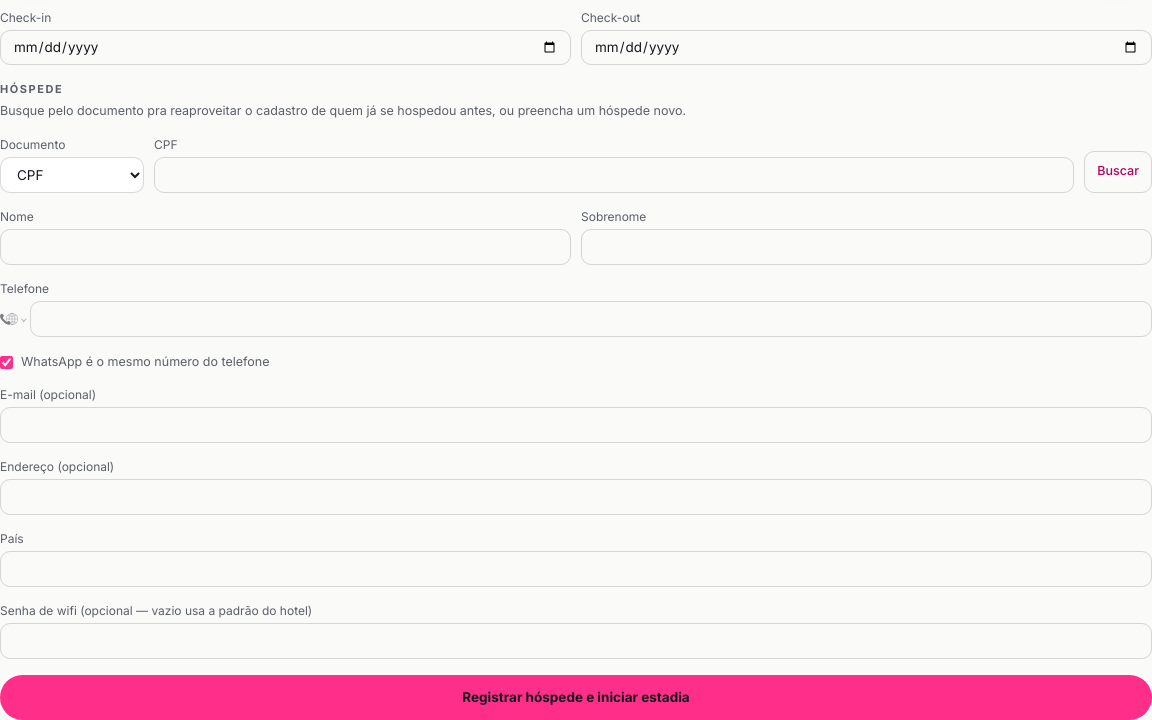
Test case: OccupancyForm › validates required fields before submitting
(page scrolled)
What coordinates should you click on to do the following:
click the button "Registrar hóspede e iniciar estadia"
I would click on:
 (576, 698)
Its box is [0,675,1151,719].
(page scrolled)
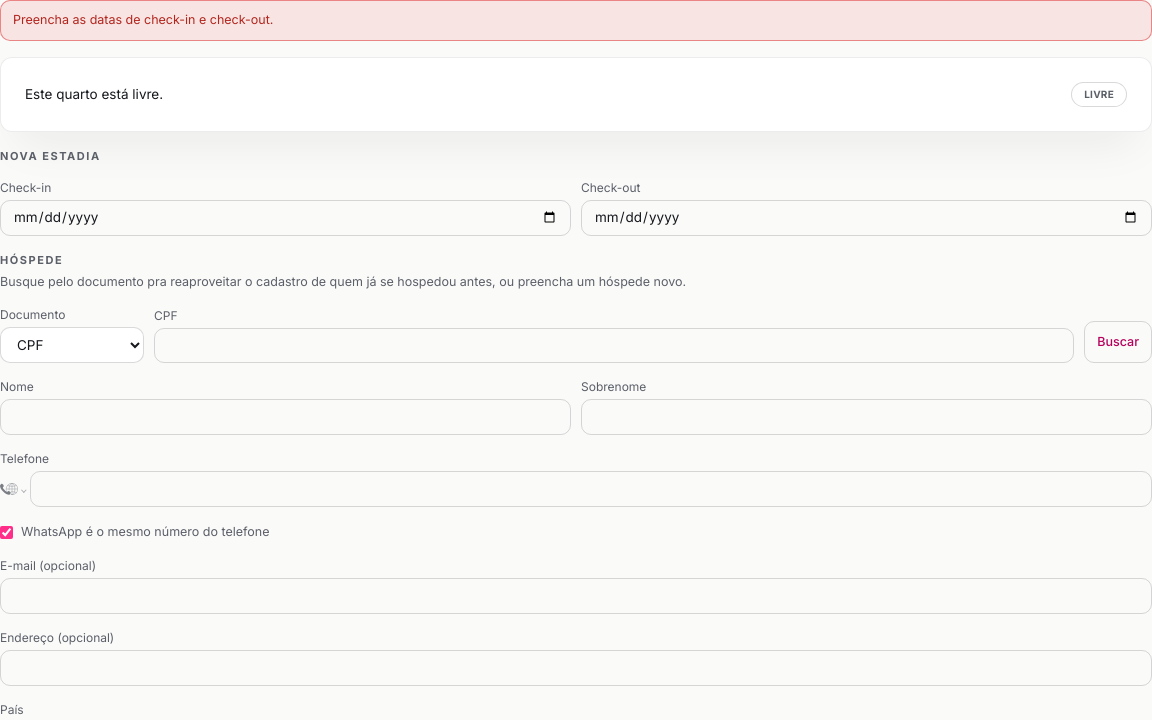
Check: the text "Preencha as datas de check-in e check-out." is shown, box [0,0,1151,41]
